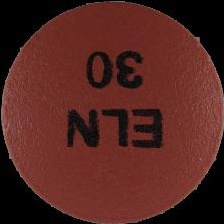43353-792: (0, 0, 224, 224)
